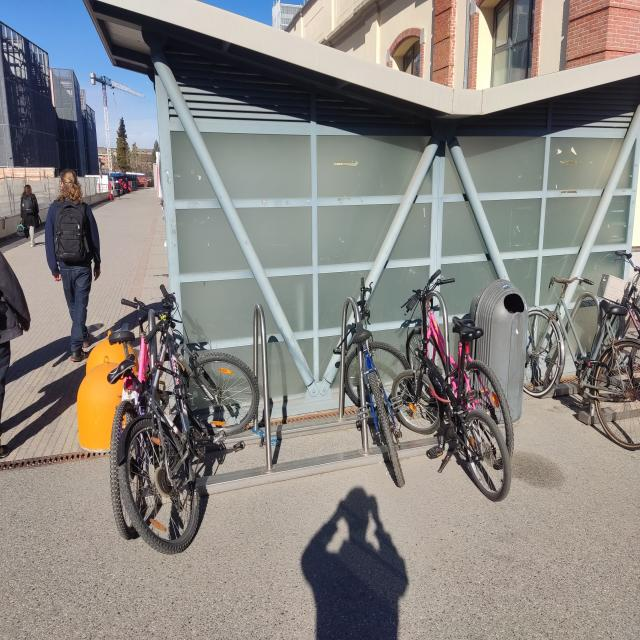Bicycle: (130, 251, 248, 555), (537, 248, 640, 502), (326, 276, 407, 542), (411, 306, 506, 531), (437, 256, 505, 464), (107, 277, 142, 547), (629, 231, 640, 332)
